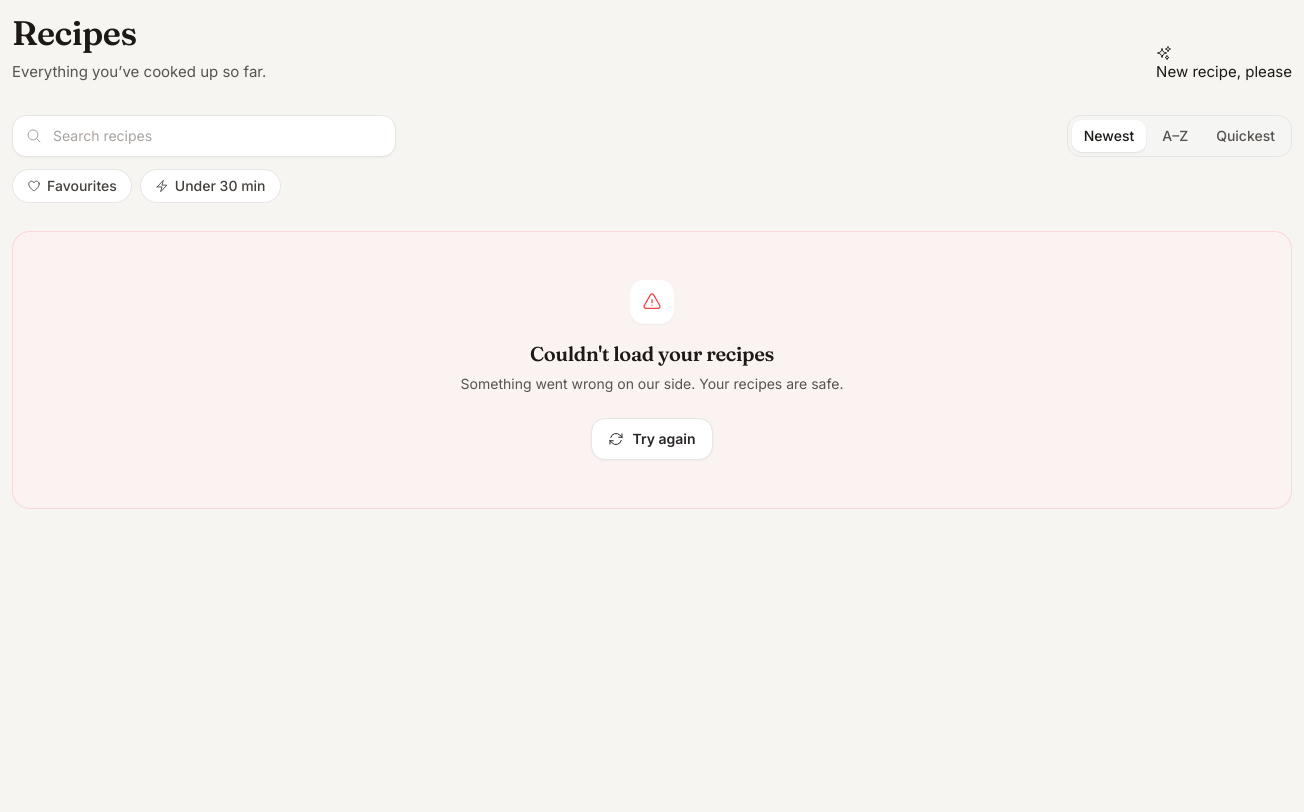
Test: RecipesPage › displays error message when loading fails
The image size is (1304, 812).
Expected: the heading "Couldn't load your recipes" is shown, [530, 341, 774, 366]
Click the button "Try again": [652, 439] box [592, 418, 713, 460]
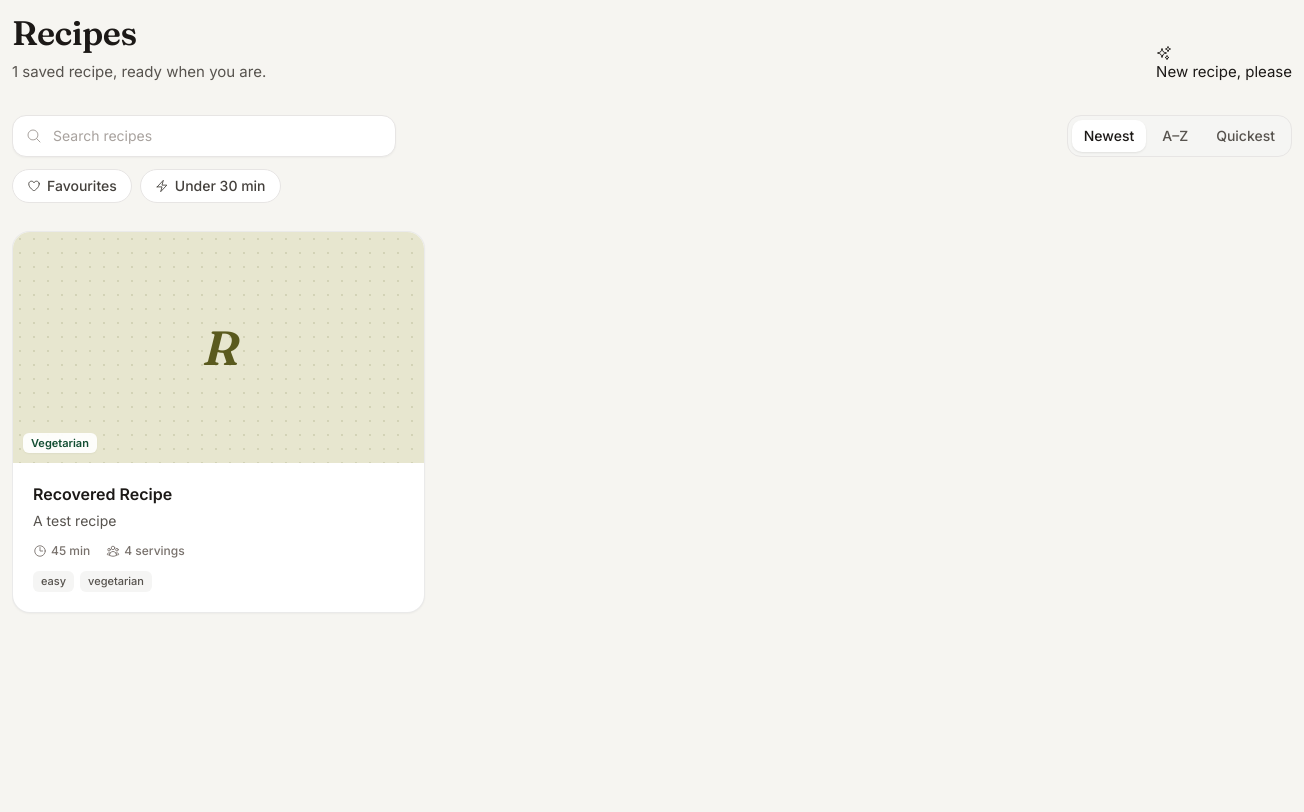
Result: the heading "Recovered Recipe" is shown at [33, 484, 172, 504]
